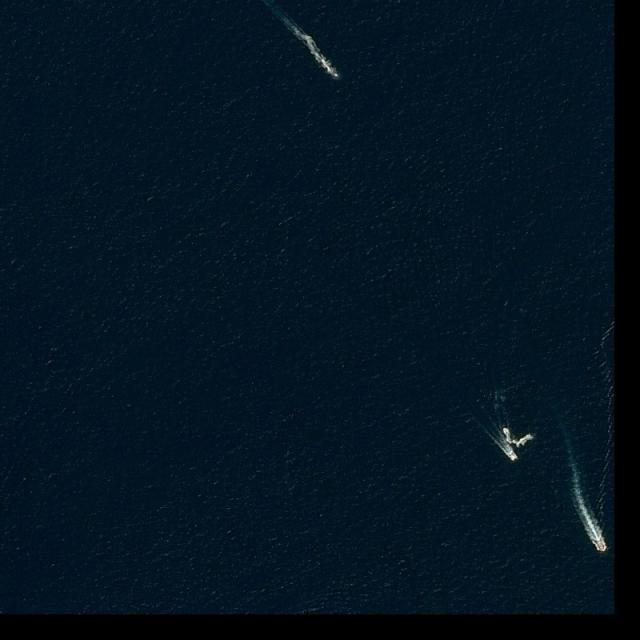ship: (596, 539, 607, 554), (501, 426, 509, 435), (510, 454, 517, 462), (332, 72, 340, 79)
